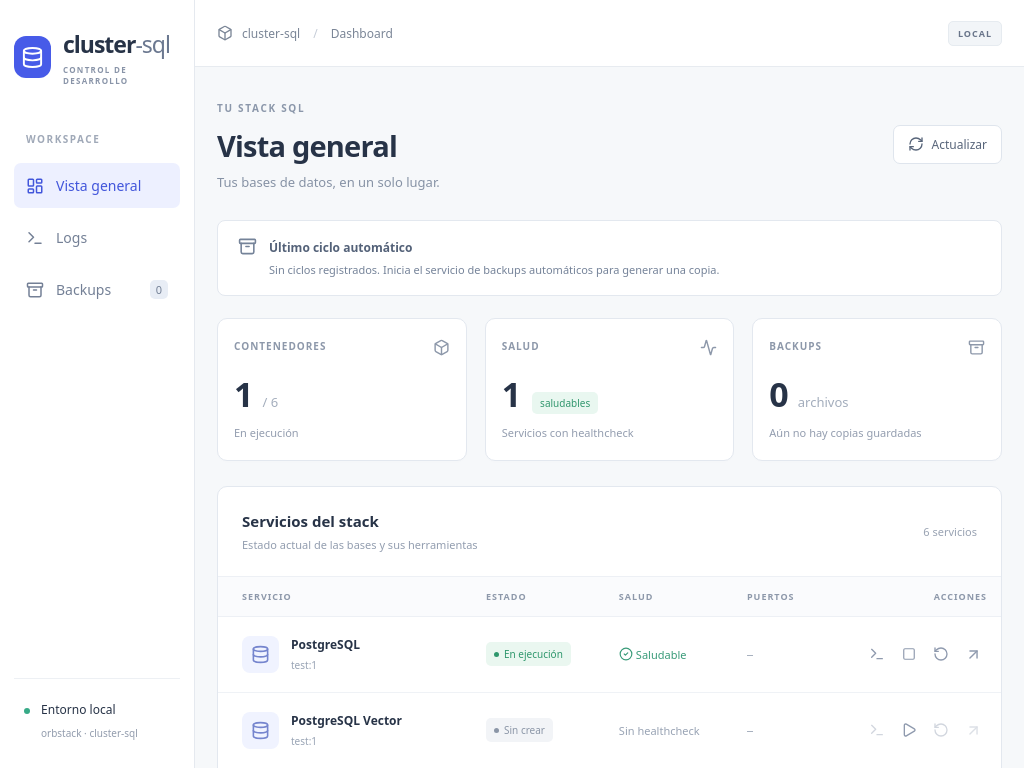
Scenario: conserva datos anteriores y deshabilita acciones cuando Docker falla
expect the text "PostgreSQL" is shown: met, box [291,636,360,653]
What coordinates should you click on to do the following:
click the button "Actualizar"
I would click on:
 (947, 144)
Its box is [893,124,1002,164].
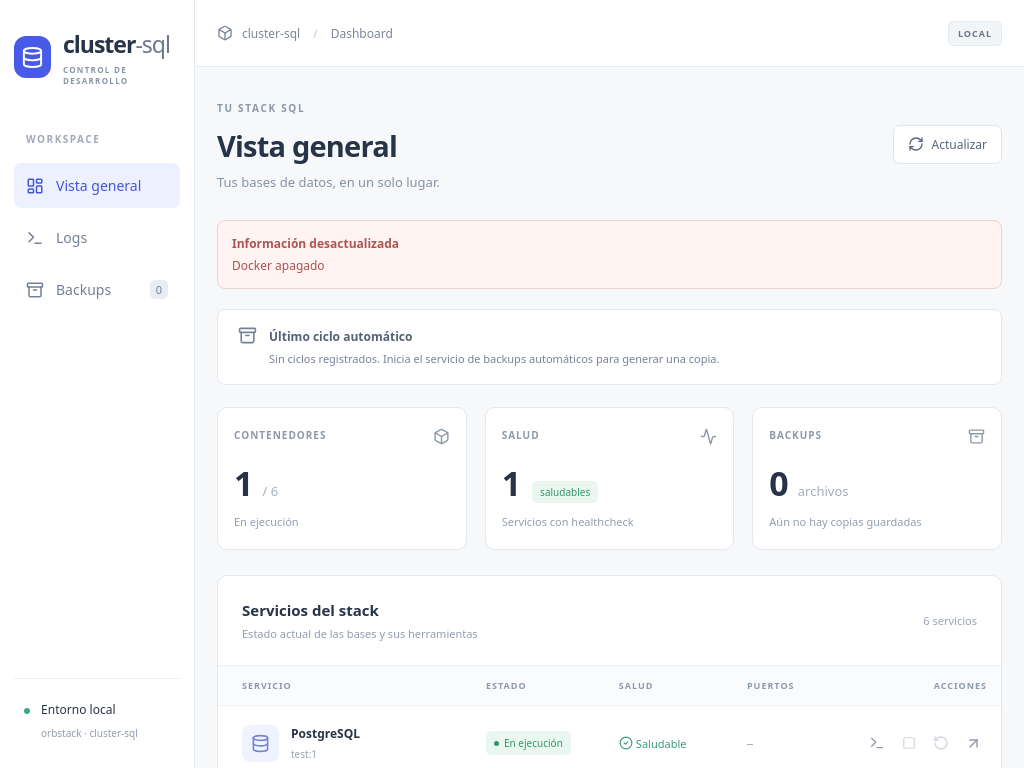
expect the text "Información desactualizada" is shown: met, box [232,235,399,252]
expect the text "Docker apagado" is shown: met, box [232,257,325,274]
expect the button named "Detener PostgreSQL" is disabled: met, box [895,729,923,757]
